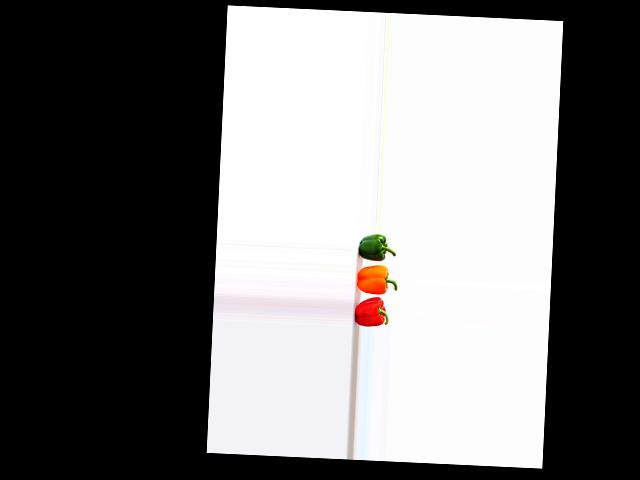bell_pepper: (354, 295, 396, 329)
